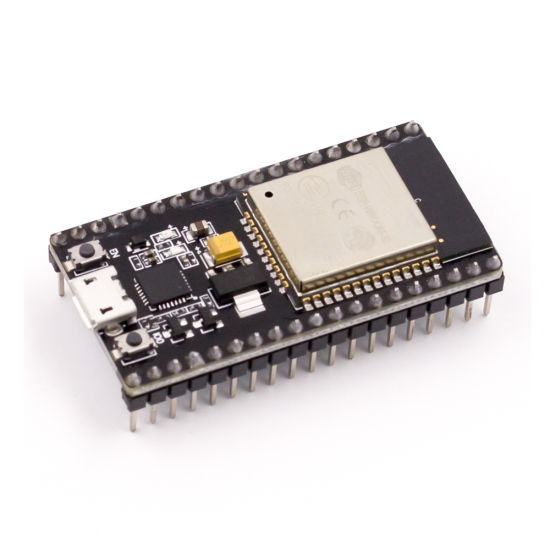ESP32-WROOM: (40, 98, 510, 462)
